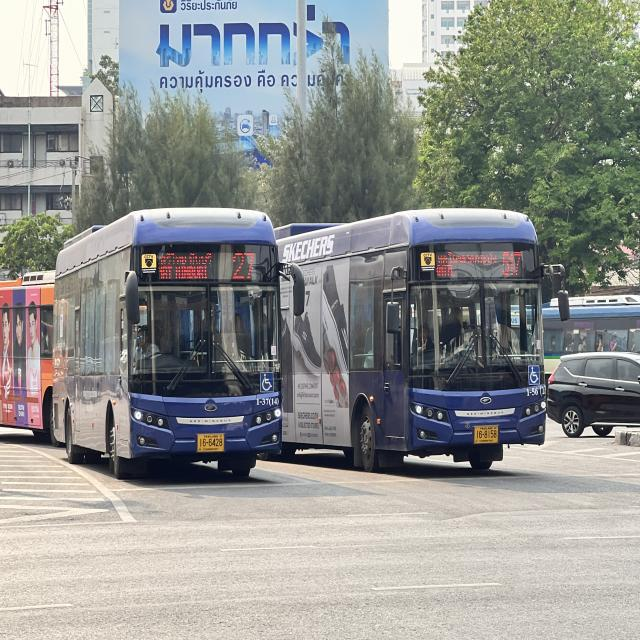BMTA-bus: (0, 271, 56, 440)
Bus-Line-Number: (229, 250, 259, 282), (498, 249, 526, 279)
Destination-Sign-Normal: (157, 248, 220, 284), (436, 248, 499, 278)
TSB-Bus: (274, 208, 548, 473), (50, 207, 289, 481)
